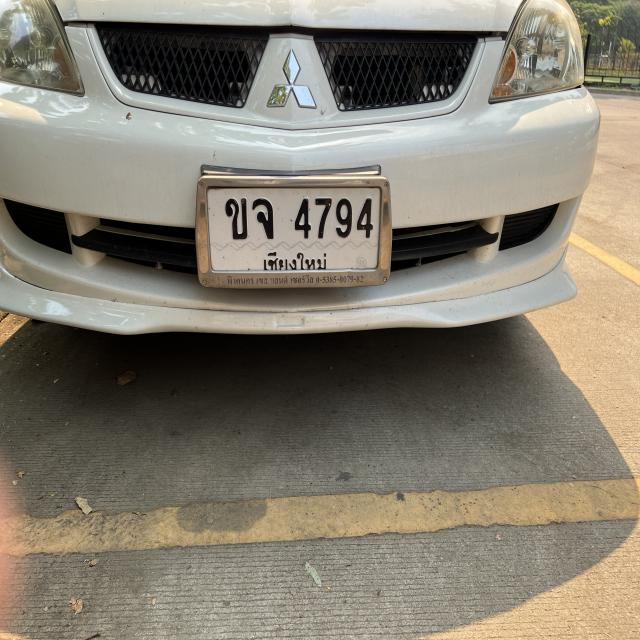license_plate: (195, 178, 393, 292)
